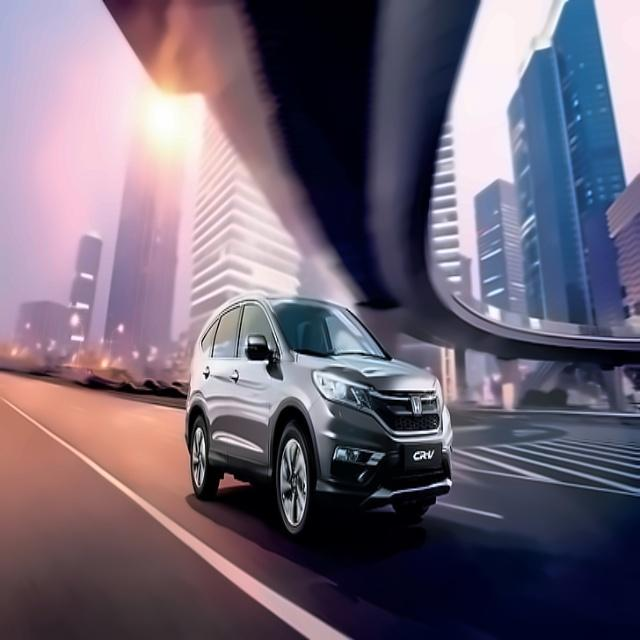Car hood: (295, 347, 444, 395)
Driver-s door - -F-R-: (232, 296, 278, 470)
Fender - -F-R-: (270, 346, 322, 476)
Front bumper: (314, 418, 467, 517)
Headlight - -L-: (427, 374, 458, 419)
Headlight - -R-: (311, 365, 381, 416)
Passenger-s door - -R-R-: (196, 298, 233, 461)
Side bumper - -R-: (199, 444, 275, 492)
Side mirror - -R-: (243, 328, 277, 366)
